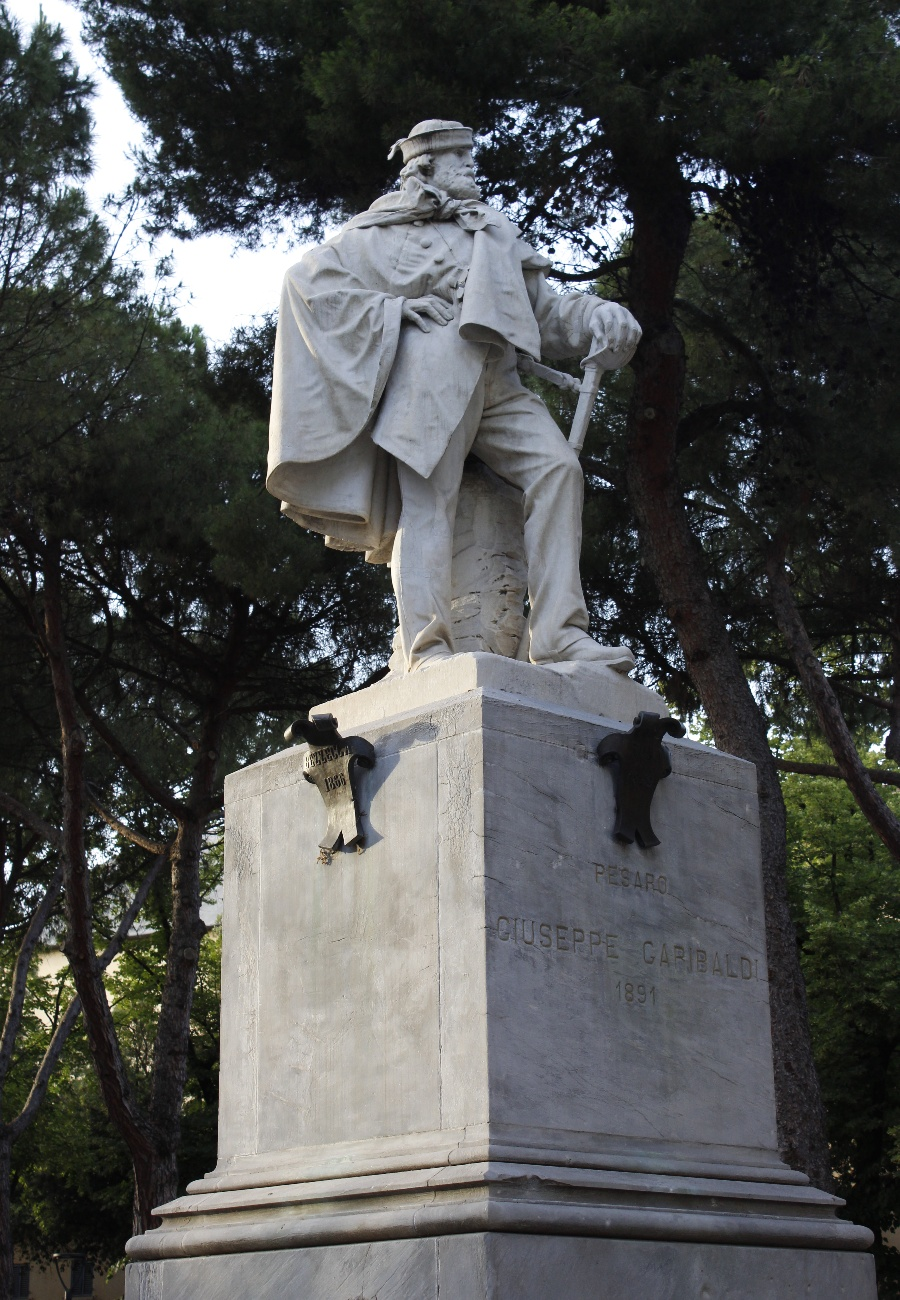Giuseppe Garibaldi: (263, 120, 644, 726)
